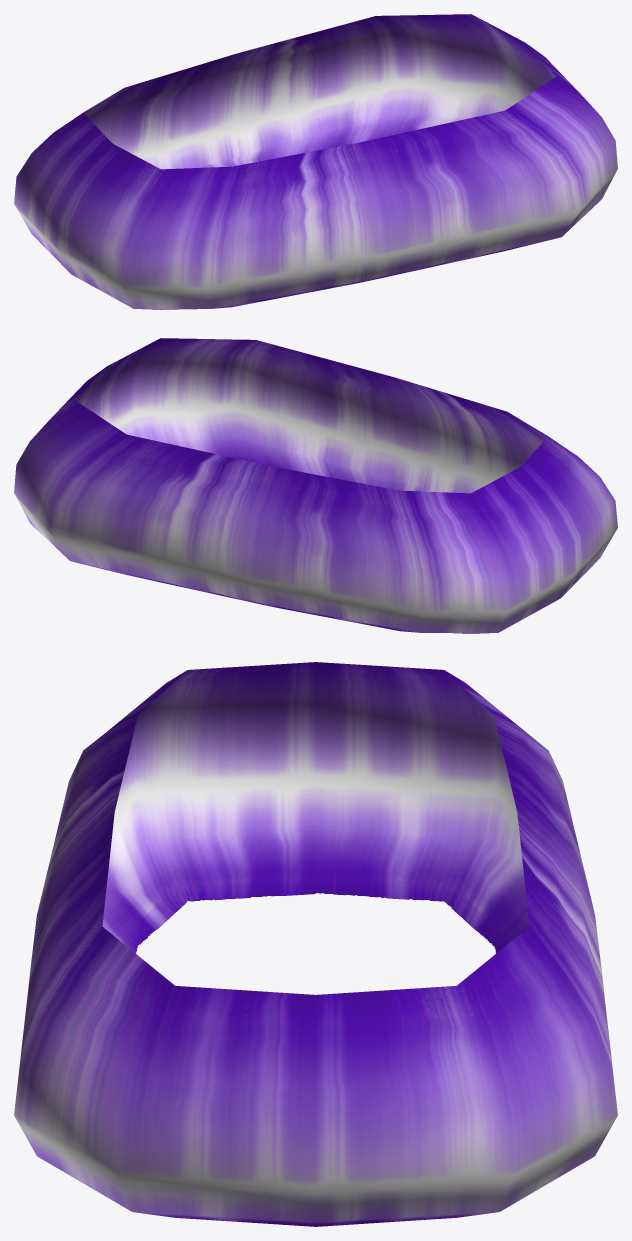
File: light_unit_plasma.obj
The picture shows the model from 3 angles, top to bottom: view 1: azimuth 30°, elevation 25°; view 2: azimuth 150°, elevation 25°; view 3: azimuth 270°, elevation 25°; orthographic projection. The views are drawn at different scales.
Visible parts, largest first — view 1: pSphere10; view 2: pSphere10; view 3: pSphere10.
Boxes of the visible parts, x1,y1,x2,y2 form: pSphere10: [14, 14, 617, 309]; pSphere10: [14, 338, 617, 633]; pSphere10: [14, 662, 617, 1226].
Size of the model in its own units: 38.45 by 10.04 by 23.69.
Materials: 1 (1 with a texture image).
